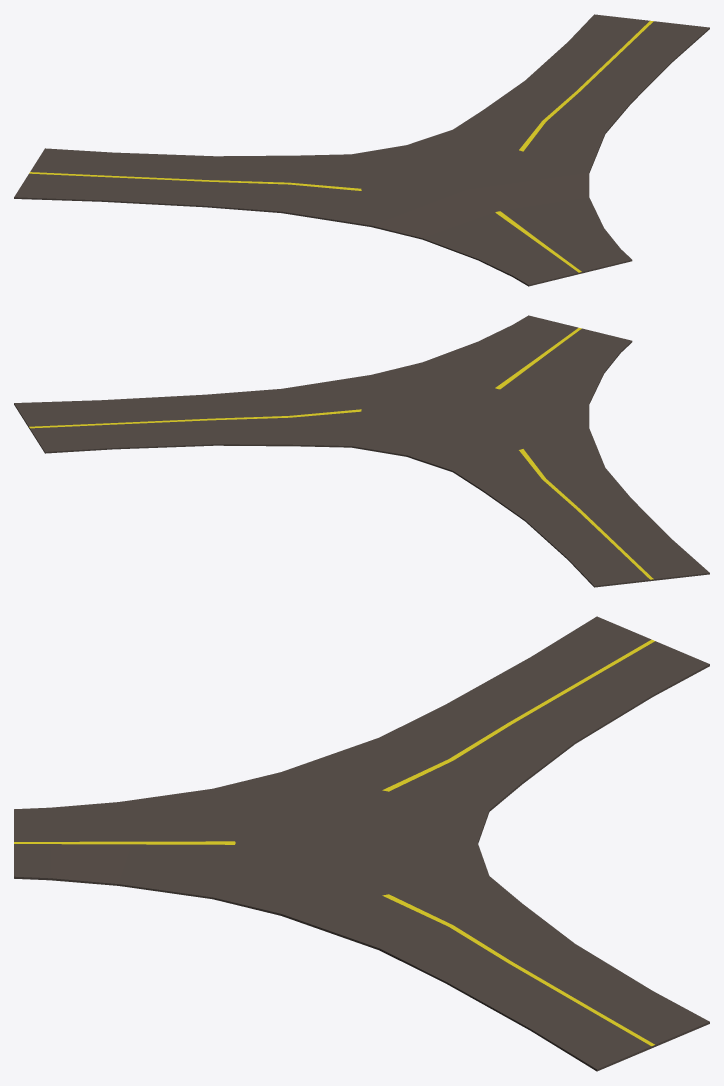
The model's file is CroisementT.fbx.
3 renders of one model, top to bottom at view 1: azimuth 30°, elevation 25°; view 2: azimuth 150°, elevation 25°; view 3: azimuth 270°, elevation 25°, orthographic. The views are drawn at different scales.
Visible parts, largest first — view 1: CroisementT; view 2: CroisementT; view 3: CroisementT.
Boxes of the visible parts, x1,y1,x2,y2 form: CroisementT: (14,14,709,286); CroisementT: (14,315,709,587); CroisementT: (14,616,709,1071).
Size of the model in its own units: 4695 by 3048 by 10.
